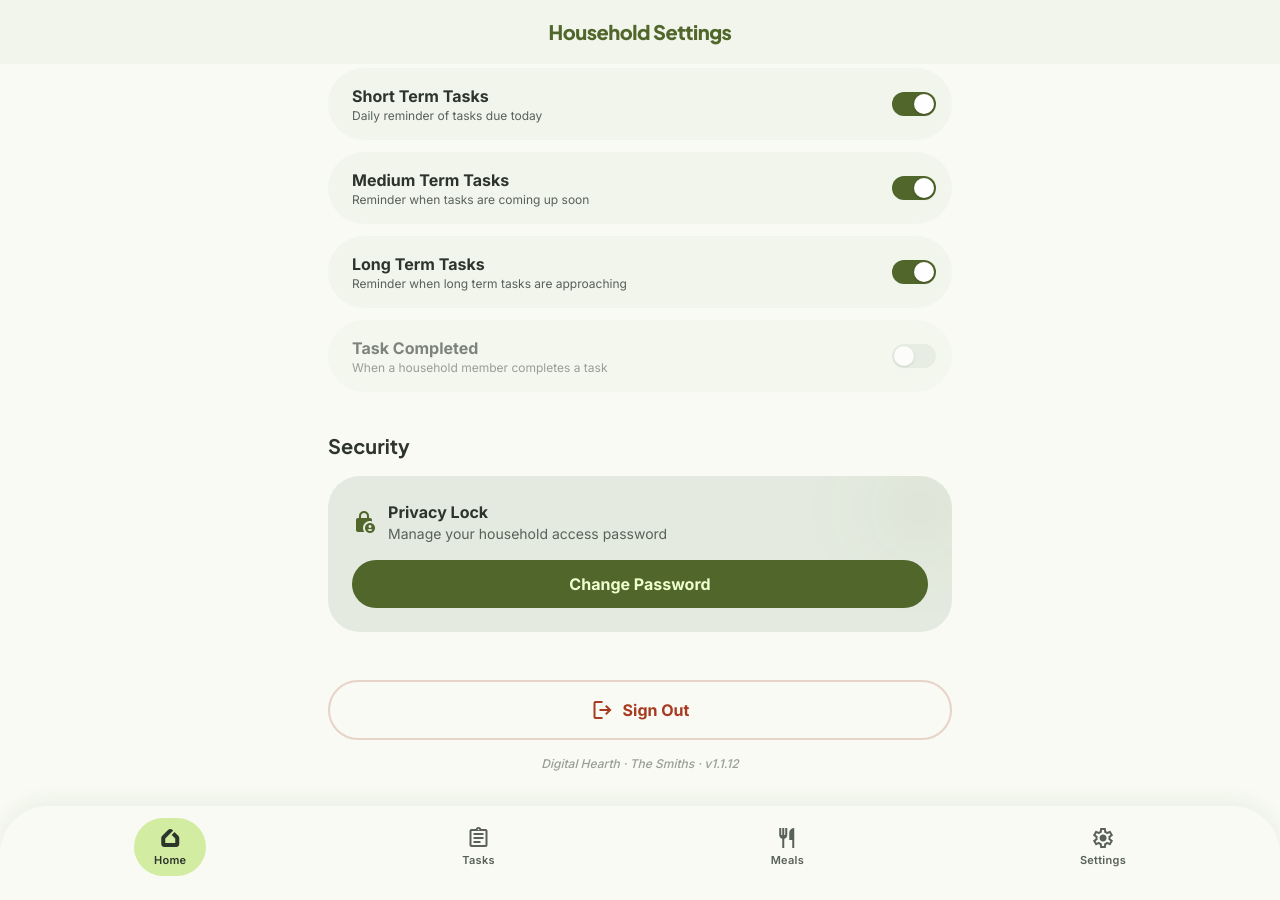
Scenario: Settings › shows a validation error when new password is too weak
The width and height of the screenshot is (1280, 900).
(page scrolled)
Click the button "Change Password" at (640, 584), box x1=352 y1=560 x2=928 y2=608
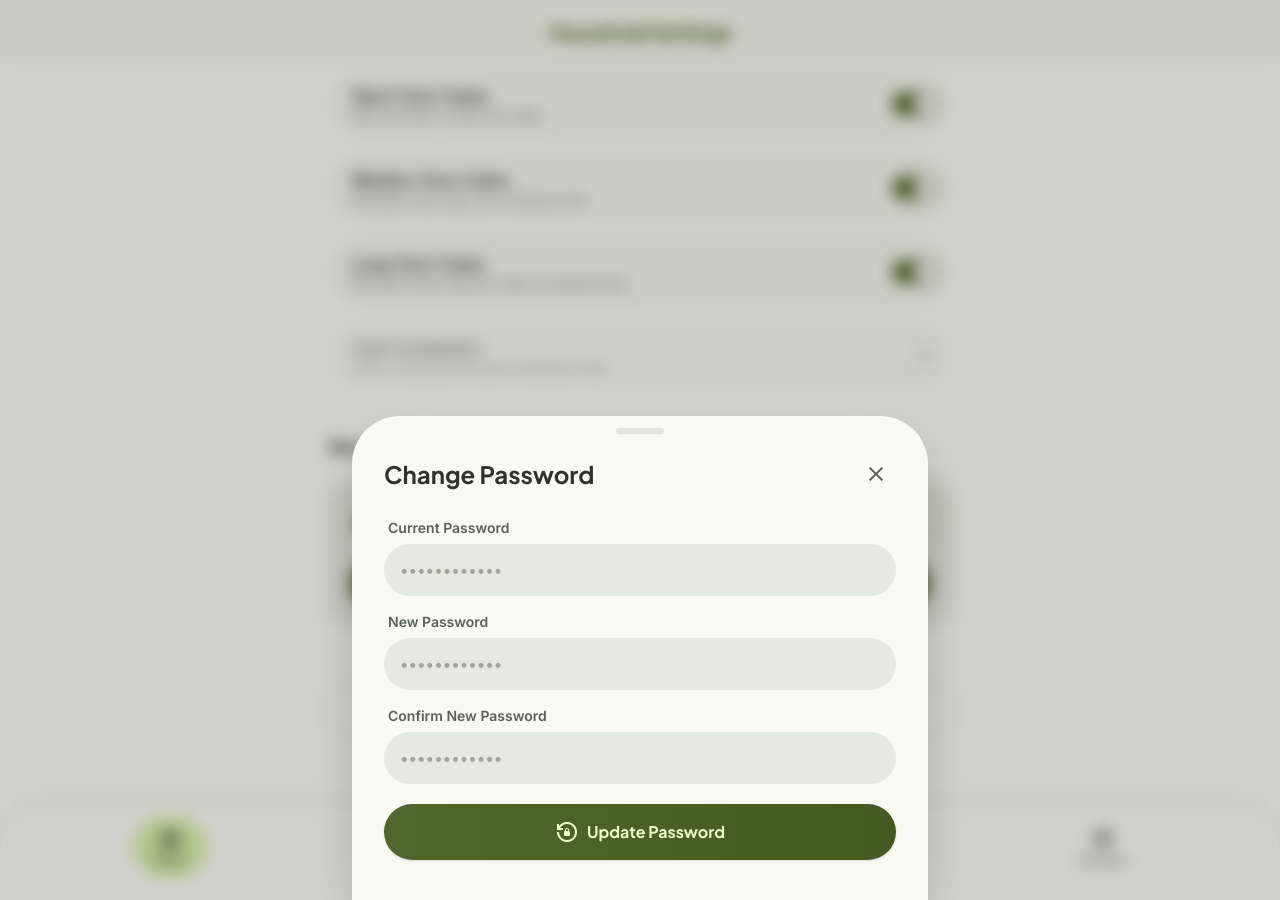
Type "OldPass1!" into the password field labelled "Current Password" at (640, 570), box x1=384 y1=544 x2=896 y2=596
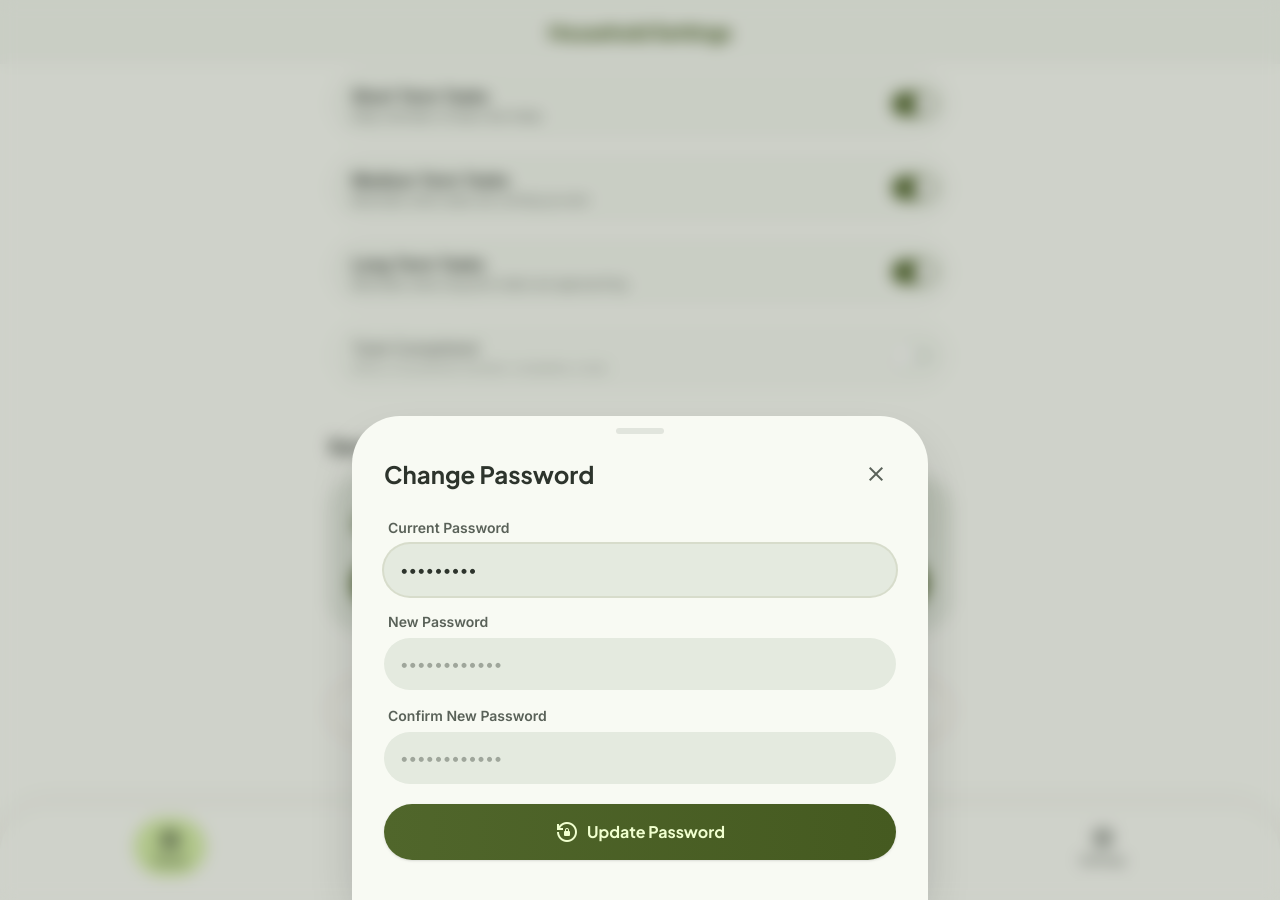
Type "weak" into the password field labelled "New Password" at (640, 664), box x1=384 y1=638 x2=896 y2=690
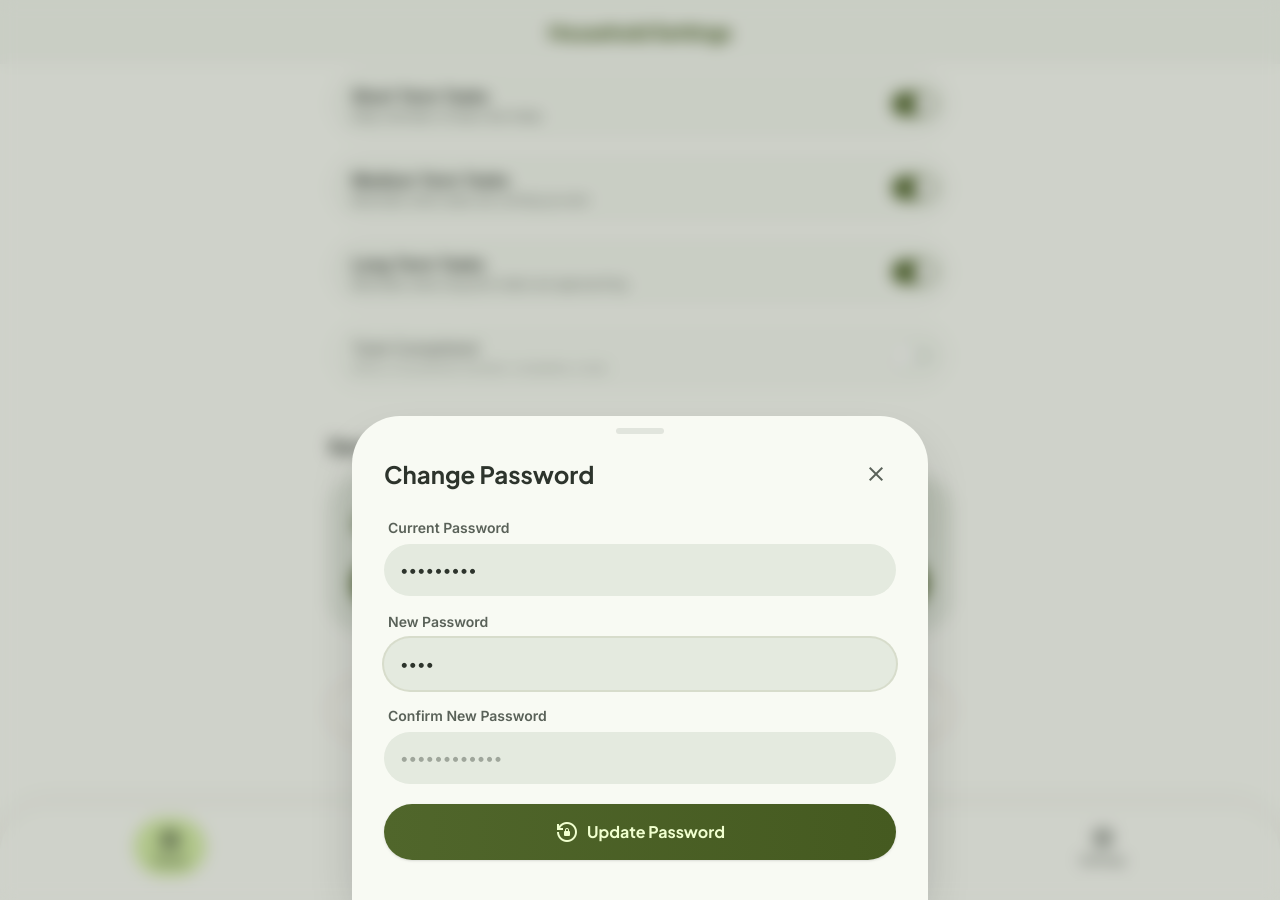
Type "weak" into the password field labelled "Confirm New Password" at (640, 758), box x1=384 y1=732 x2=896 y2=784
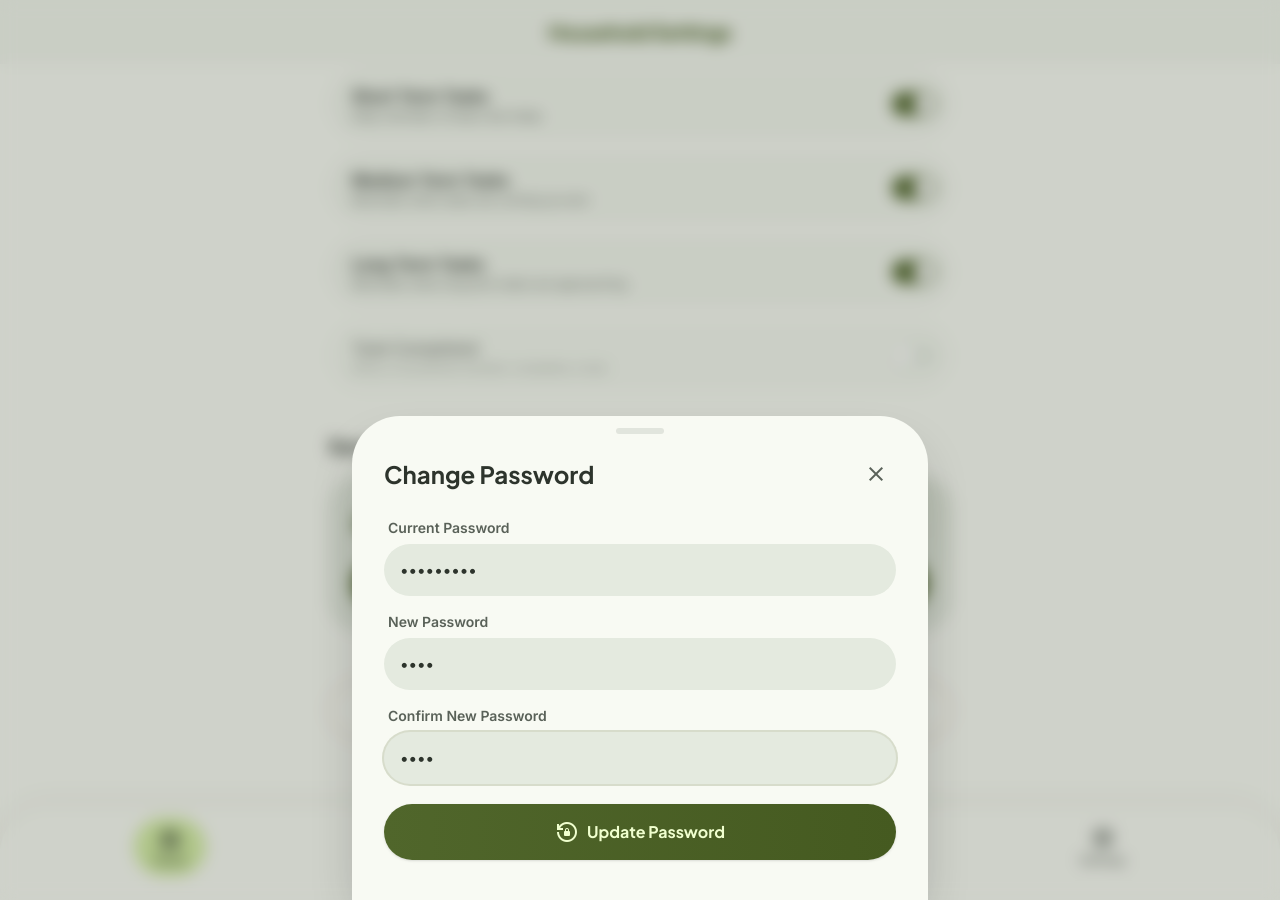
Click the button "Update Password" at (640, 832), box x1=384 y1=804 x2=896 y2=860
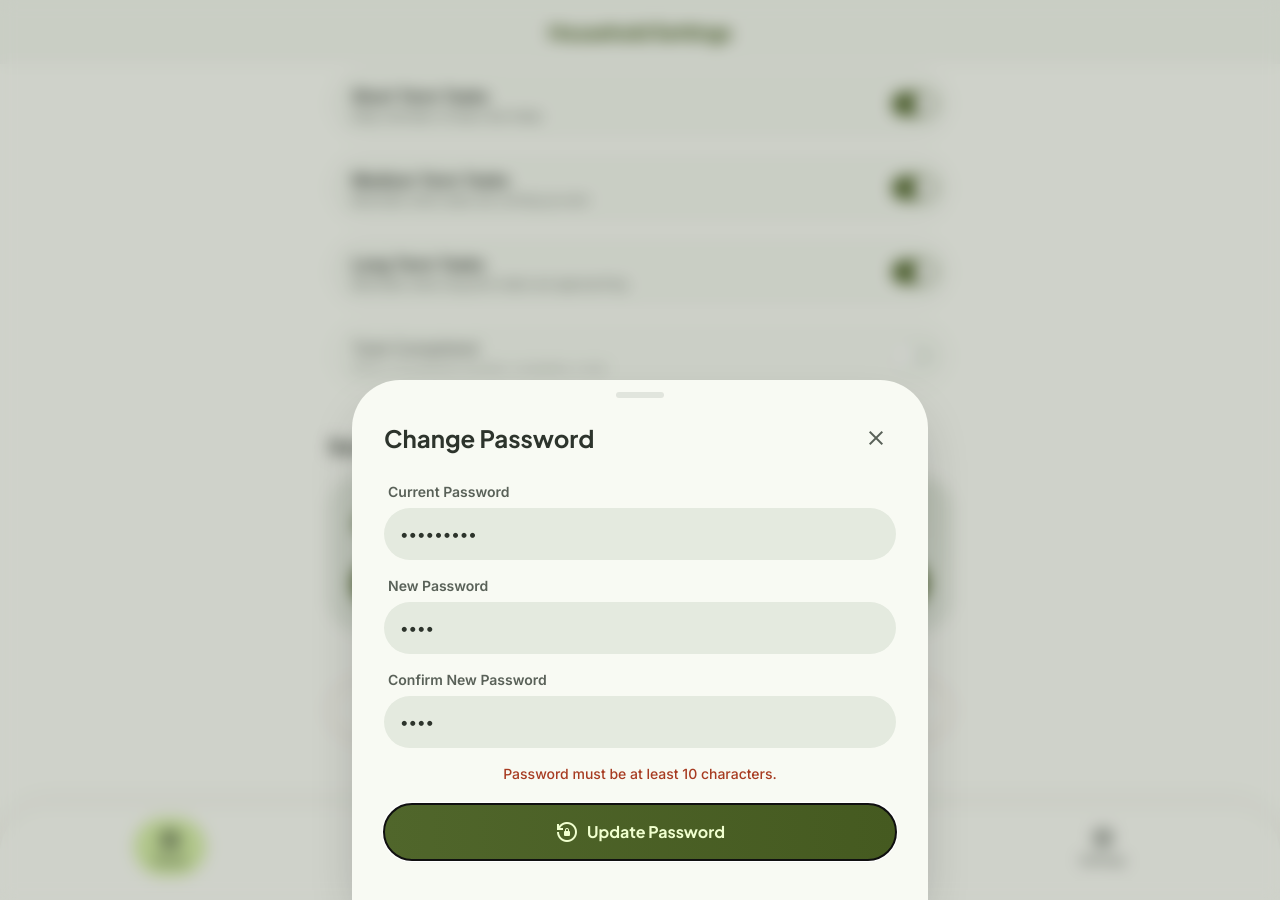
Now the text "Password must be at least 10 characters." is shown, box x1=503 y1=765 x2=777 y2=782
